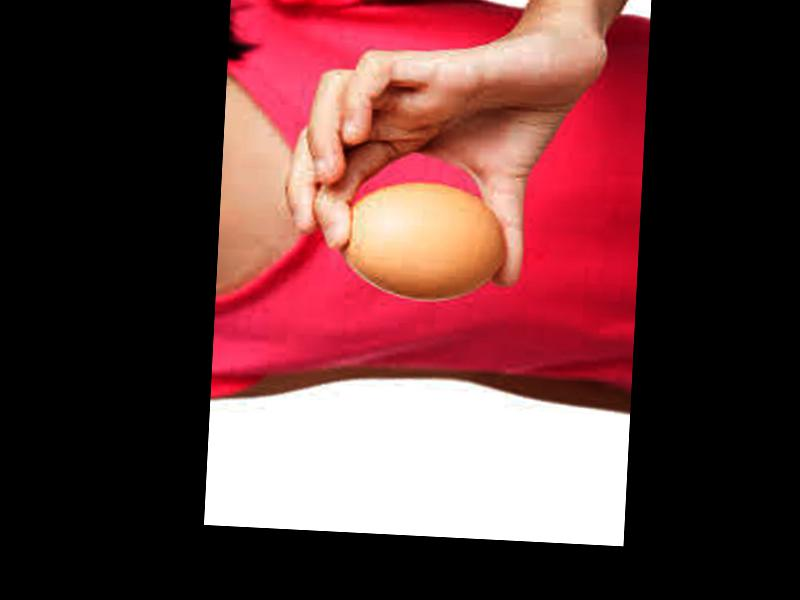Eggs: (335, 178, 506, 303)
